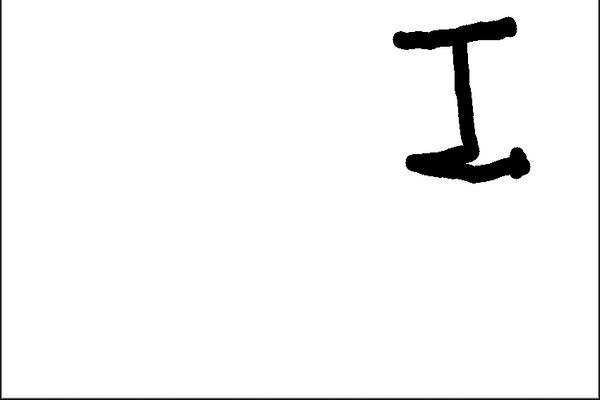i: (387, 13, 542, 192)
